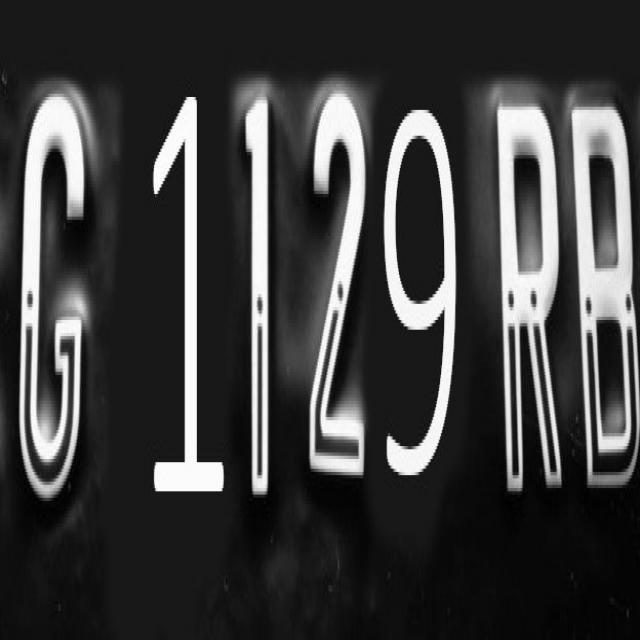1: (148, 80, 226, 516), (236, 68, 294, 518)
2: (293, 68, 385, 486)
9: (382, 92, 458, 491)
B: (580, 92, 640, 498)
G: (9, 78, 106, 520)
R: (480, 93, 572, 498)
